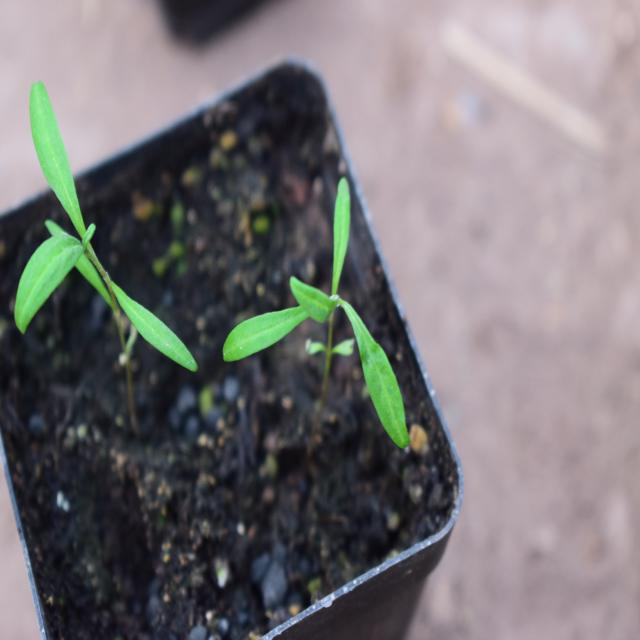white_smart_weed: (0, 93, 202, 380), (214, 171, 398, 459)
